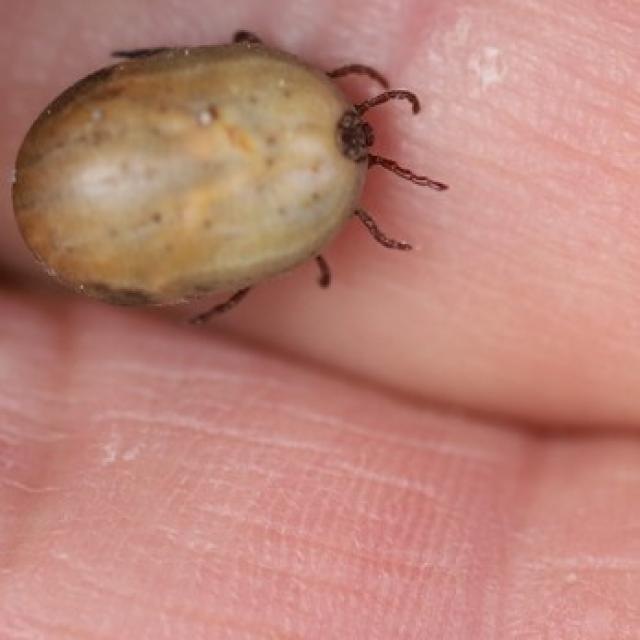Dermacentor Reticulatus-F-Fed: (13, 30, 449, 325)
